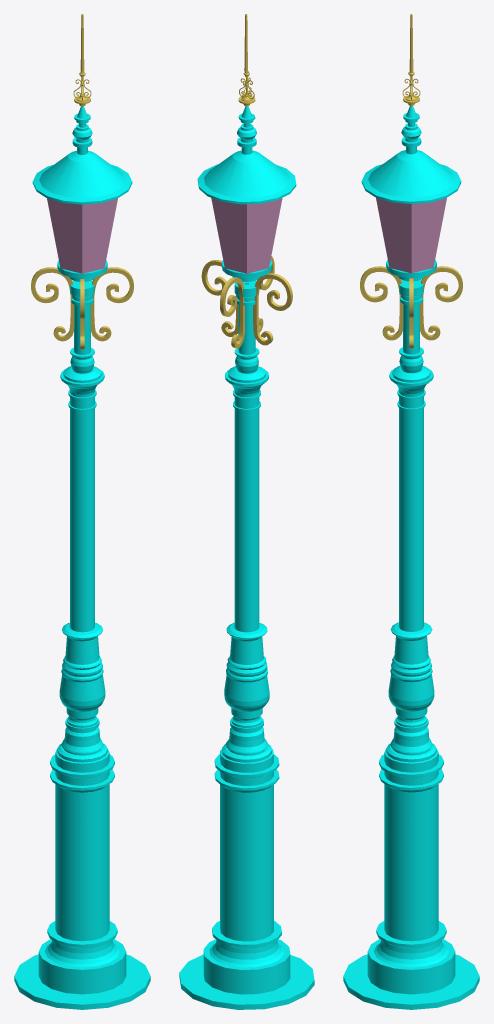
File: streetlight.obj
The picture shows the model from 3 angles, left to right: view 1: azimuth 90°, elevation 25°; view 2: azimuth 150°, elevation 25°; view 3: azimuth 270°, elevation 25°; orthographic projection.
Visible parts, largest first — view 1: A_FP_WINDOW_01_02, Gengon01, Loft07, Loft08, Loft05; view 2: A_FP_WINDOW_01_02, Gengon01, Loft05, Loft08, Loft06; view 3: A_FP_WINDOW_01_02, Gengon01, Loft07, Loft08, Loft06.
Part boxes in pixels (x1,y1,x2,y2): A_FP_WINDOW_01_02: [14, 106, 150, 1009]; Gengon01: [47, 198, 117, 273]; Loft07: [90, 267, 133, 341]; Loft08: [31, 267, 74, 341]; Loft05: [80, 279, 84, 349]; A_FP_WINDOW_01_02: [179, 106, 314, 1009]; Gengon01: [211, 197, 282, 273]; Loft05: [253, 273, 292, 345]; Loft08: [220, 277, 244, 348]; Loft06: [201, 260, 238, 336]; A_FP_WINDOW_01_02: [343, 106, 479, 1009]; Gengon01: [376, 198, 446, 273]; Loft07: [360, 266, 403, 340]; Loft08: [419, 266, 462, 340]; Loft06: [409, 278, 413, 348].
Size of the model in its own units: 3172 by 24850 by 3172.
